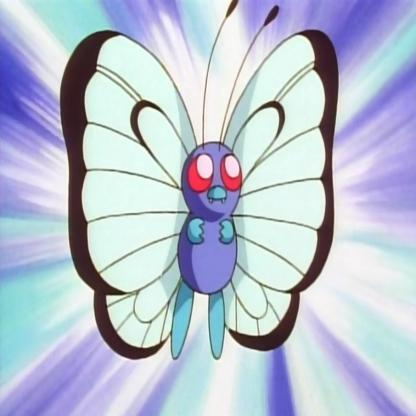Butterfree: (62, 1, 351, 374)
